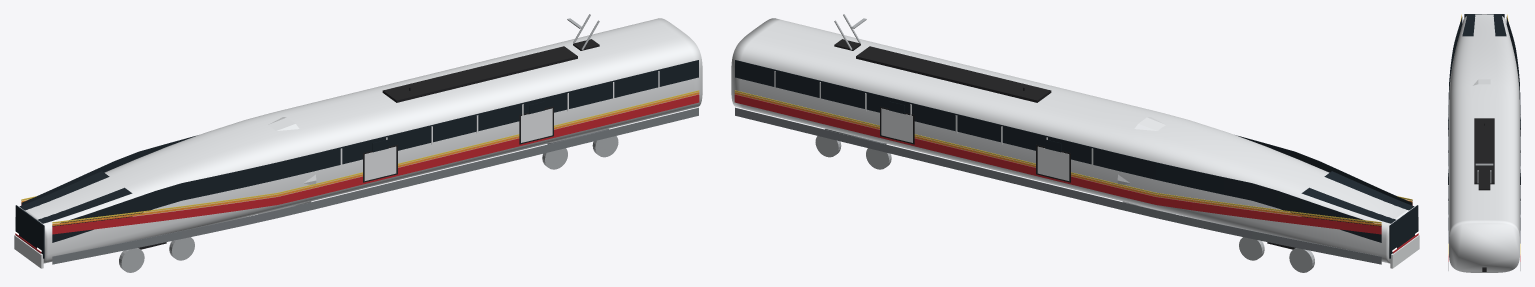
Rendered from cr400af-bs-head-lod-v006.glb.
The picture shows the model from 3 angles, left to right: view 1: azimuth 30°, elevation 25°; view 2: azimuth 150°, elevation 25°; view 3: azimuth 270°, elevation 25°; orthographic projection. The views are drawn at different scales.
Visible parts, largest first — view 1: GEO-headcar-lod, GEO-door_-1_-0.6, GEO-door_-1_5.6, GEO-nose_fairing; view 2: GEO-headcar-lod, GEO-door_1_-0.6, GEO-door_1_5.6, GEO-nose_fairing; view 3: GEO-headcar-lod, GEO-nose_fairing.
Boxes of the visible parts, x1,y1,x2,y2 form: GEO-headcar-lod: (14,14,702,272); GEO-door_-1_-0.6: (364,146,396,180); GEO-door_-1_5.6: (521,108,552,142); GEO-nose_fairing: (258,117,316,214); GEO-headcar-lod: (731,14,1419,272); GEO-door_1_-0.6: (1037,146,1069,180); GEO-door_1_5.6: (881,108,912,142); GEO-nose_fairing: (1117,117,1175,214); GEO-headcar-lod: (1448,14,1520,272); GEO-nose_fairing: (1473,79,1495,85).
Size of the model in its own units: 25.95 by 4.84 by 3.44.
